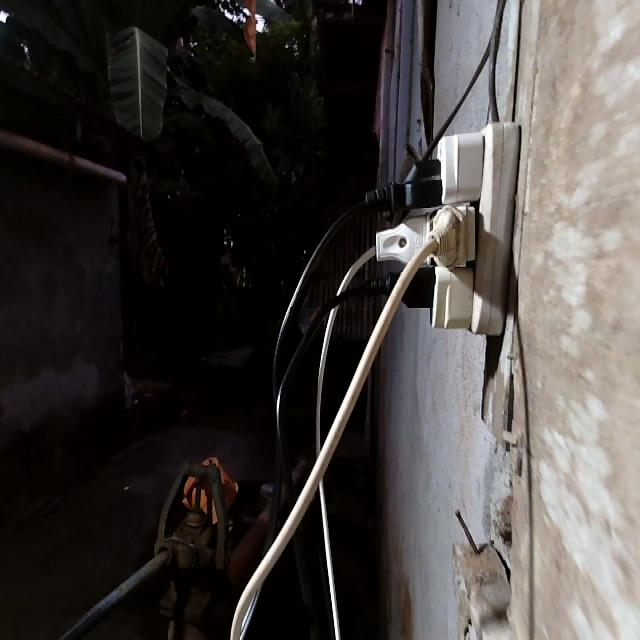-: (359, 121, 521, 339)
